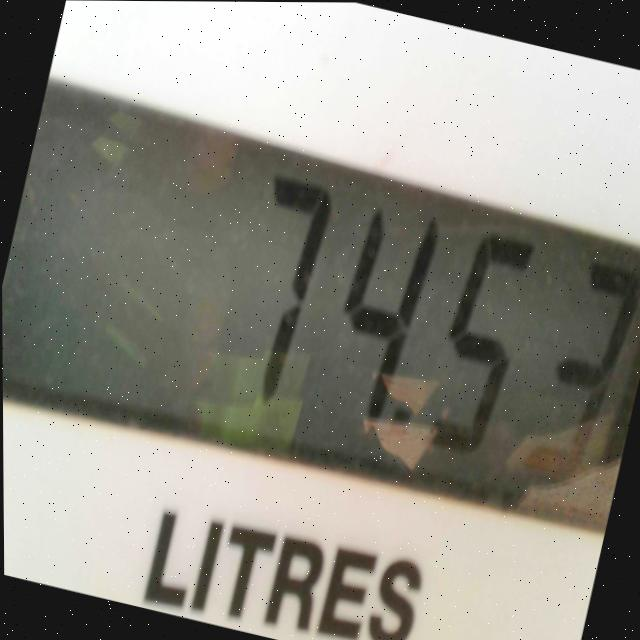.: (378, 383, 428, 460)
3: (505, 213, 640, 512)
4: (302, 180, 455, 445)
5: (391, 192, 563, 509)
7: (195, 154, 354, 435)
